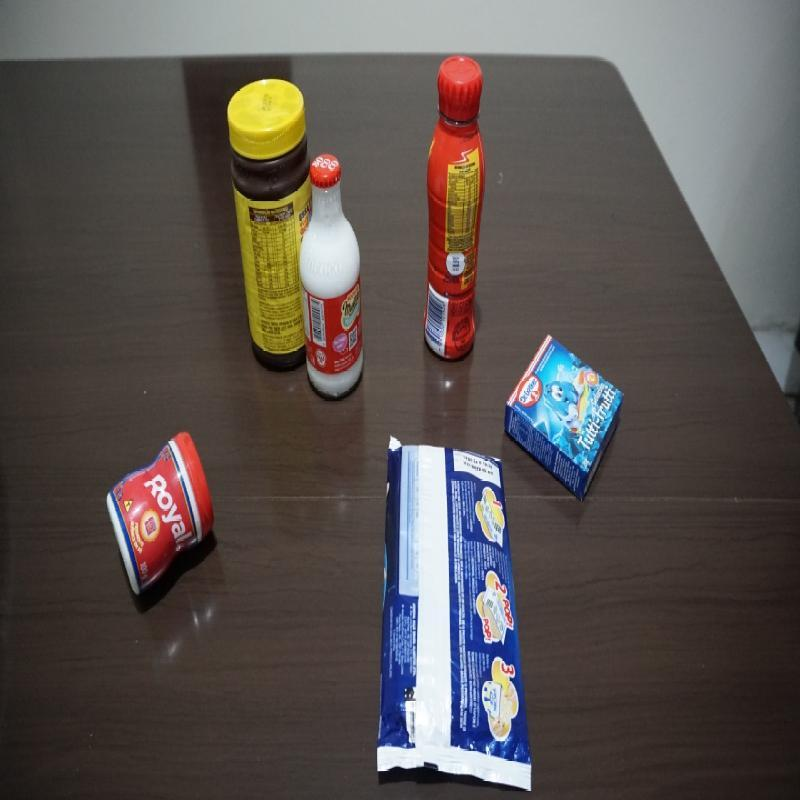Chocolate Milk: (421, 54, 488, 368)
Chocolate Powder: (224, 76, 316, 377)
Coconut Milk: (298, 154, 367, 406)
Gelatine: (505, 334, 628, 503)
Popcorn: (376, 434, 534, 794)
Yeast: (104, 426, 216, 600)
